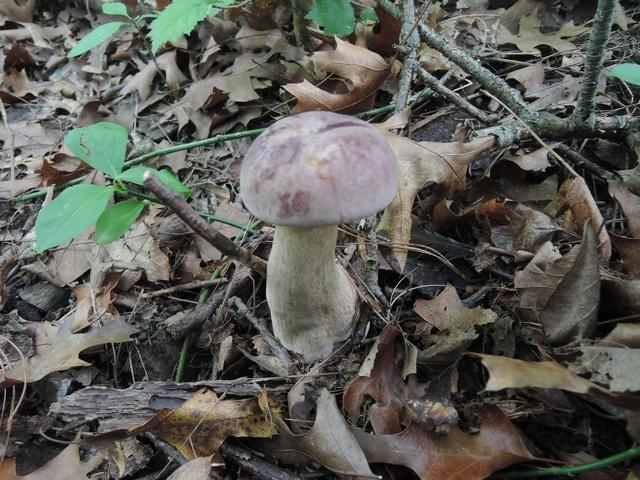Non-edible Mushroom: (237, 109, 400, 363)
